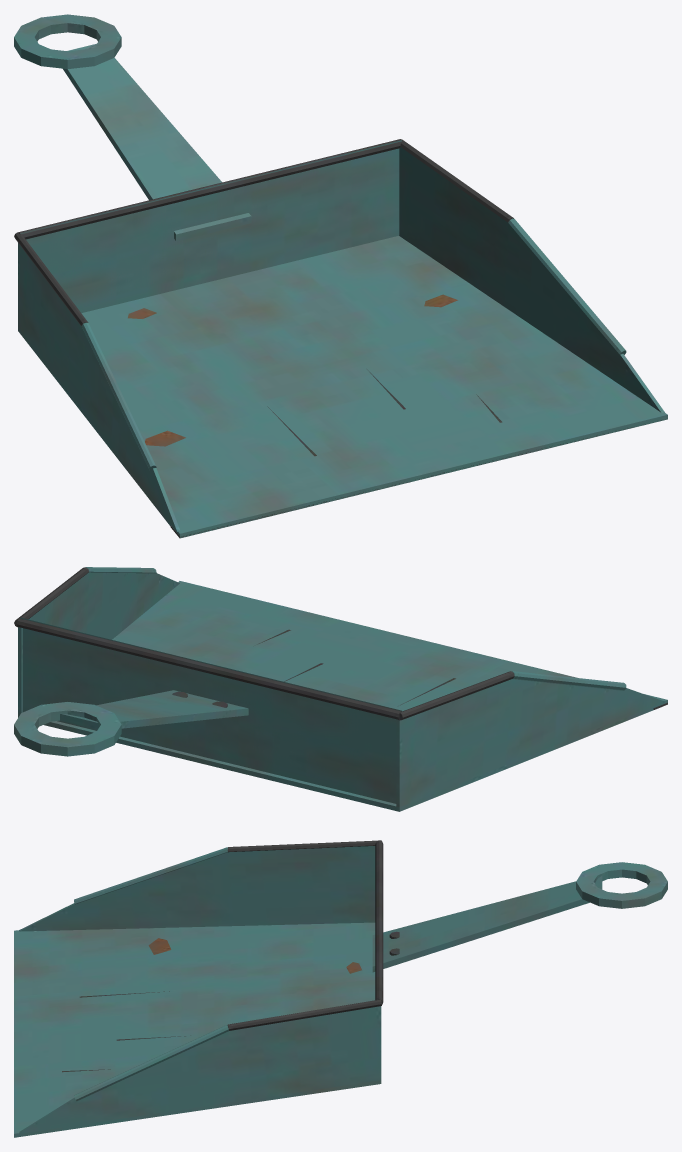
The model's file is K21_dustpan.glb.
The picture shows the model from 3 angles, top to bottom: view 1: azimuth 30°, elevation 25°; view 2: azimuth 150°, elevation 25°; view 3: azimuth 270°, elevation 25°; orthographic projection. The views are drawn at different scales.
Parts seen in each view (by area): view 1: Pressed scoop; view 2: Pressed scoop; view 3: Pressed scoop.
Part boxes in pixels (left/top/right/bottom): Pressed scoop: left=14, top=14, right=667, bottom=538; Pressed scoop: left=14, top=567, right=667, bottom=811; Pressed scoop: left=14, top=840, right=667, bottom=1137.
Bounding box in the file's own units: 0.2207 × 0.0783 × 0.3.
3 materials, 3 textured.
